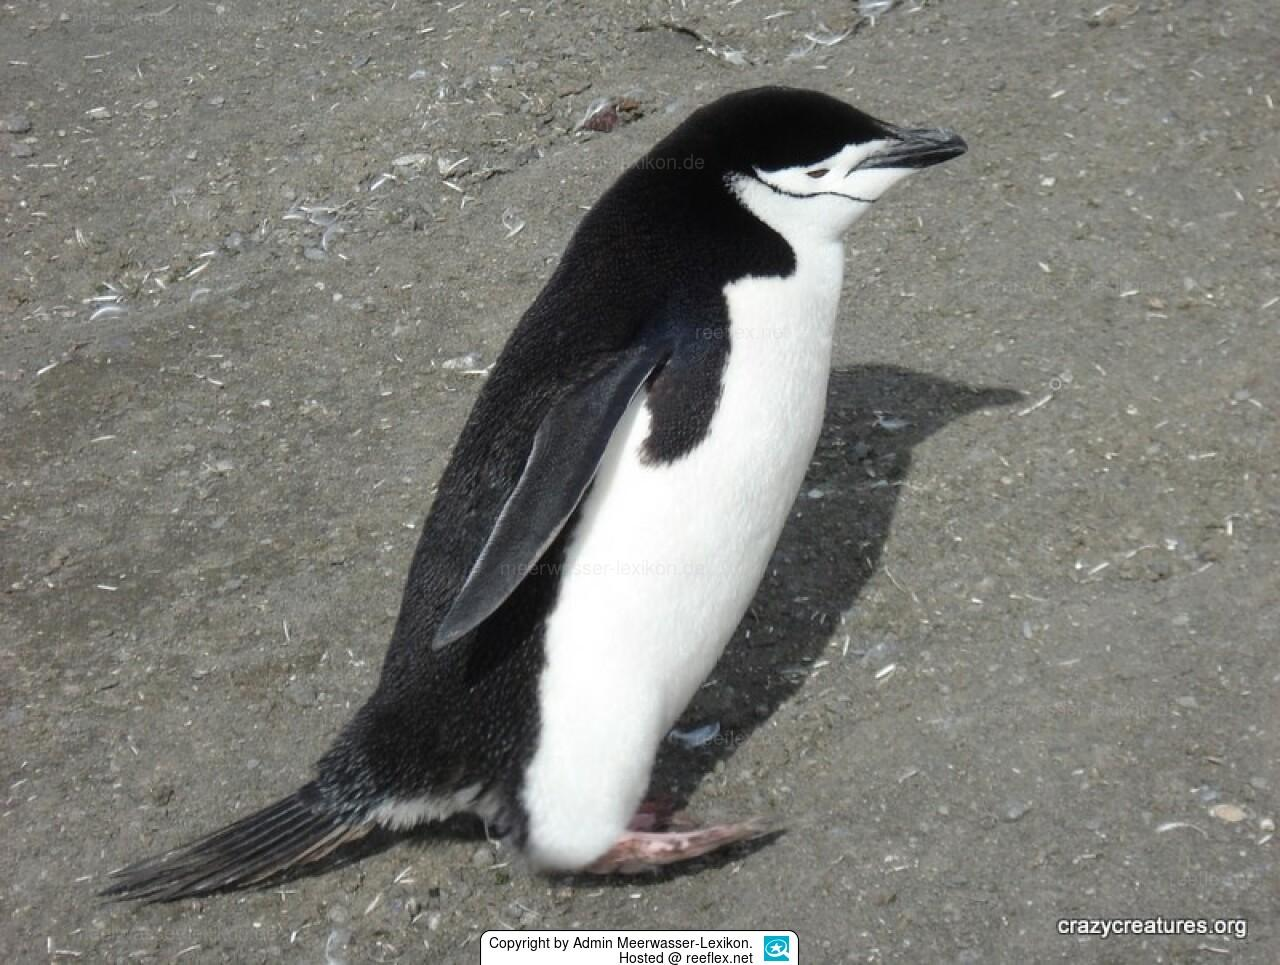chinstrap: (231, 34, 958, 939)
